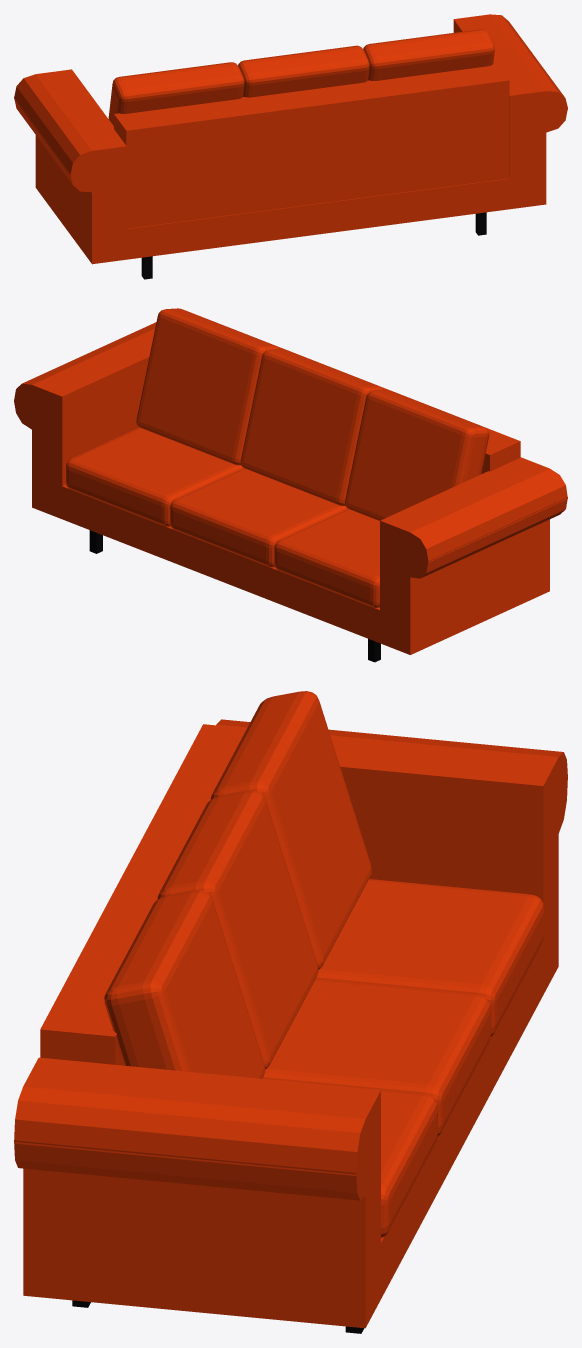
File: 4QKlmmd0v2b.glb
3 renders of one model, top to bottom at view 1: azimuth 30°, elevation 25°; view 2: azimuth 150°, elevation 25°; view 3: azimuth 270°, elevation 25°, orthographic. The views are drawn at different scales.
Parts seen in each view (by area): view 1: Box001, Box009; view 2: Box001, Box009; view 3: Box001.
Part boxes in pixels (<box>): Box001: <box>14,14,567,264</box>; Box009: <box>141,212,486,279</box>; Box001: <box>14,308,567,654</box>; Box009: <box>89,530,380,662</box>; Box001: <box>14,691,567,1328</box>.
Size of the model in its own units: 2.7 by 1 by 1.47.
